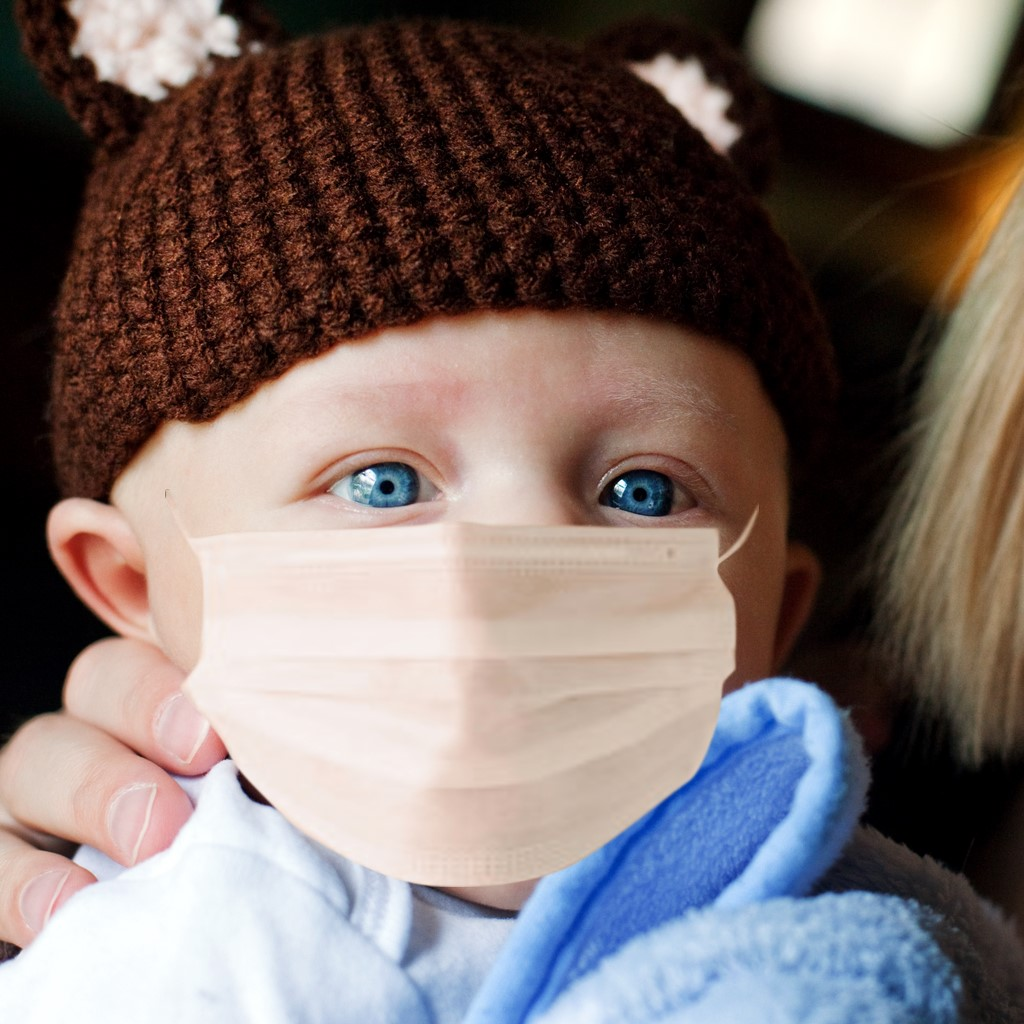con_mascara: (158, 168, 801, 899)
